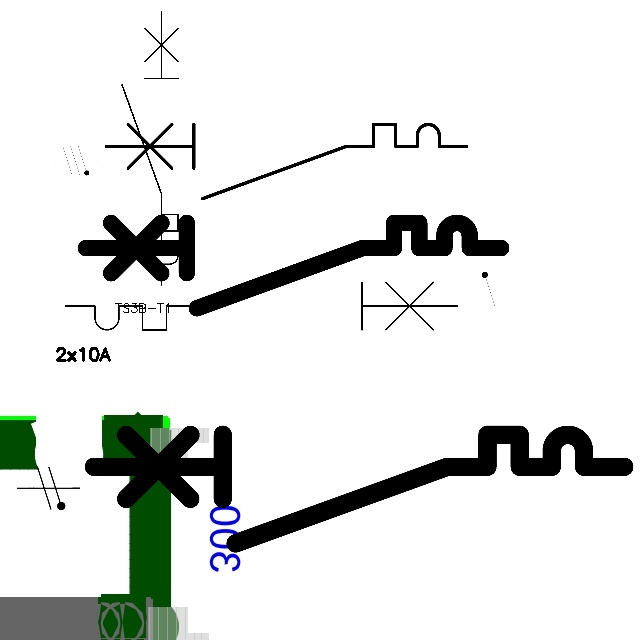interruptor_termomagnetico: (80, 421, 637, 557), (75, 212, 512, 319), (55, 239, 467, 340), (96, 115, 475, 207), (115, 5, 185, 292)
